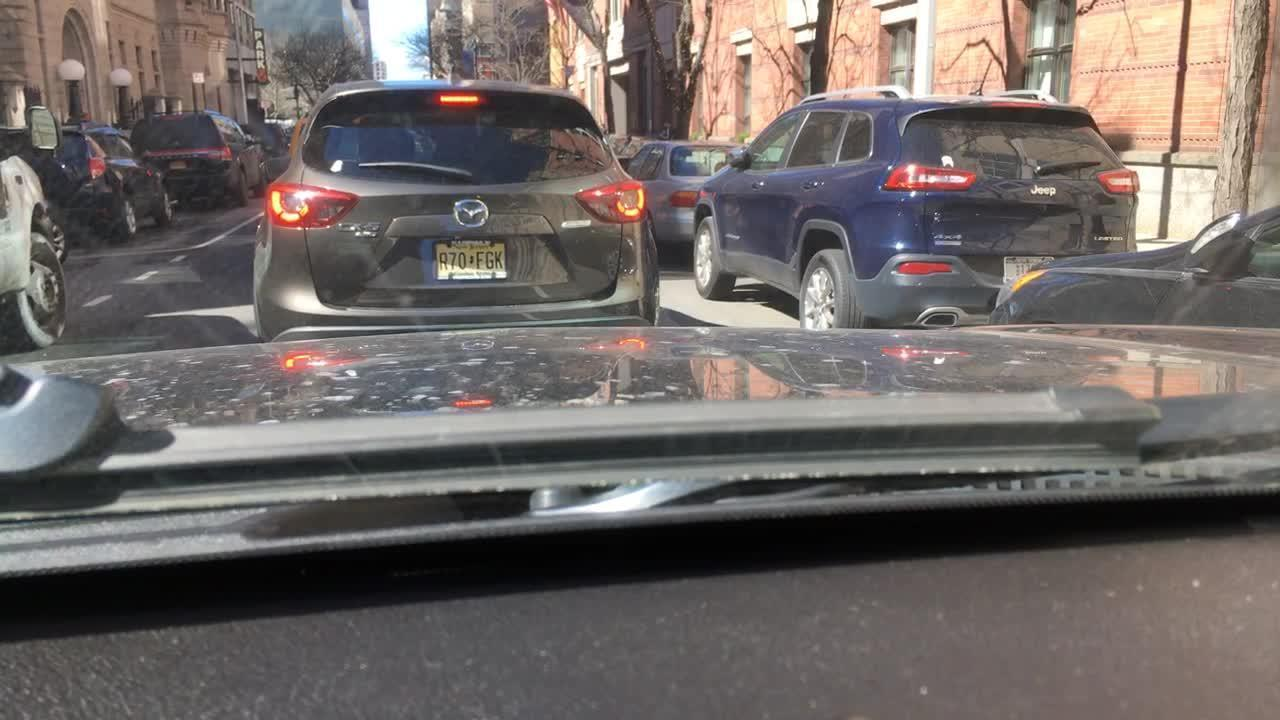Mazda: (449, 196, 491, 234)
